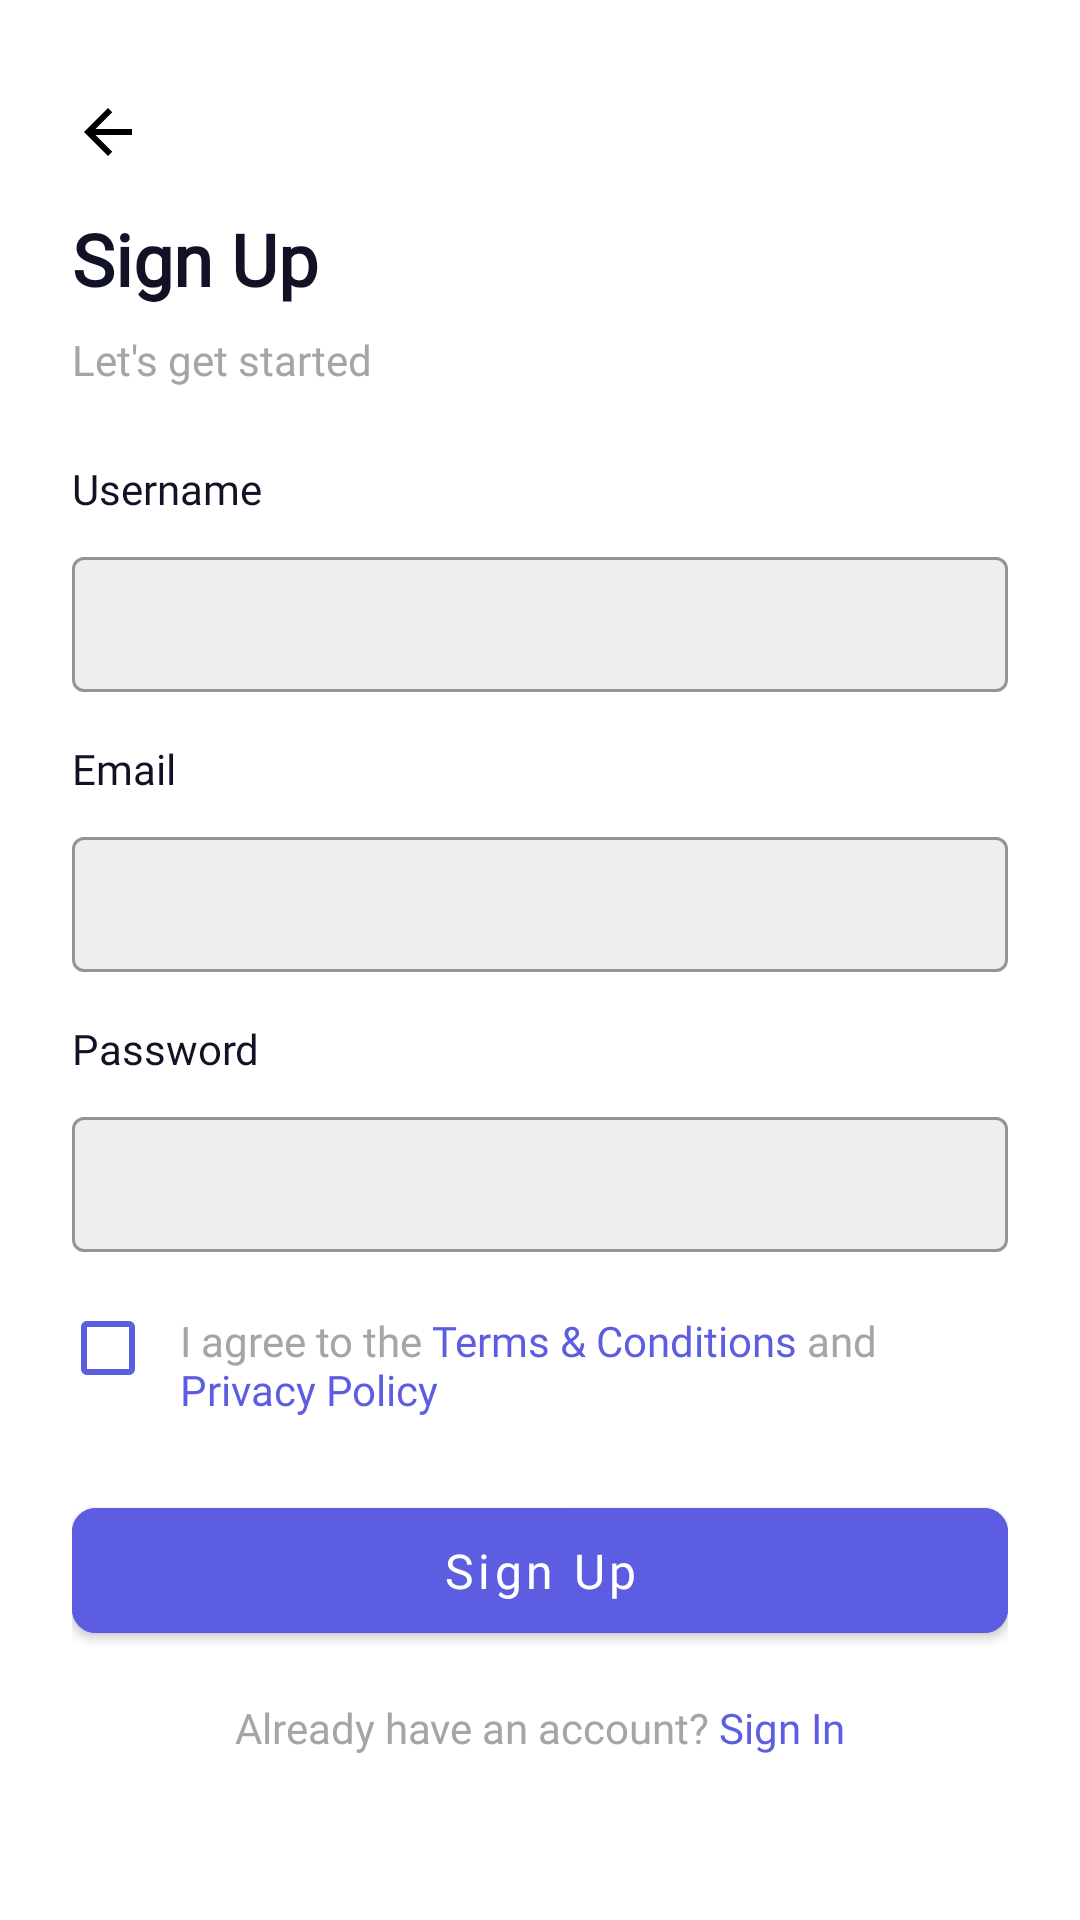

Where to tap for icons on this 1080×1920 app screen, as (x=x, y=y):
arrow back: (x=108, y=132)
